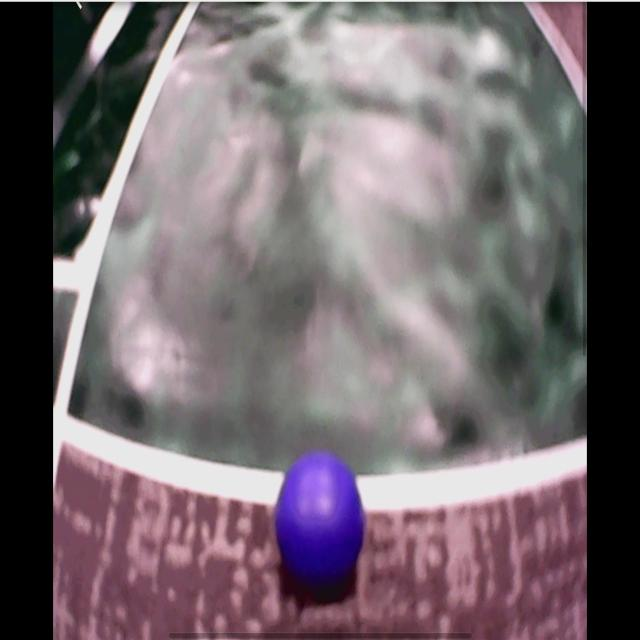ball: (276, 448, 364, 589)
